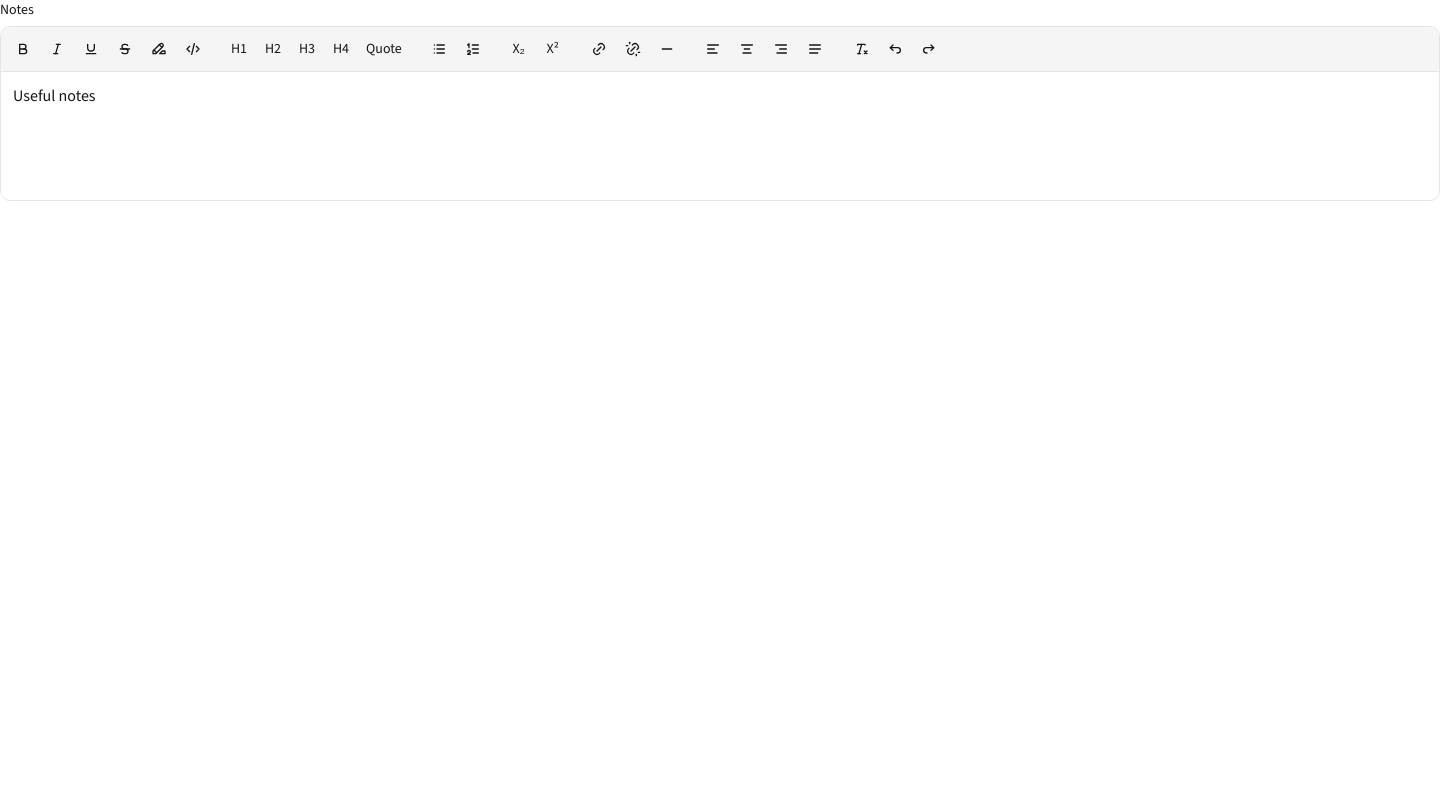
Test: RichTextEditor link dialog › validates safe schemes and returns focus to the toolbar control
Click the button named "Link": (599, 49) top-left (583, 33), bottom-right (615, 65)
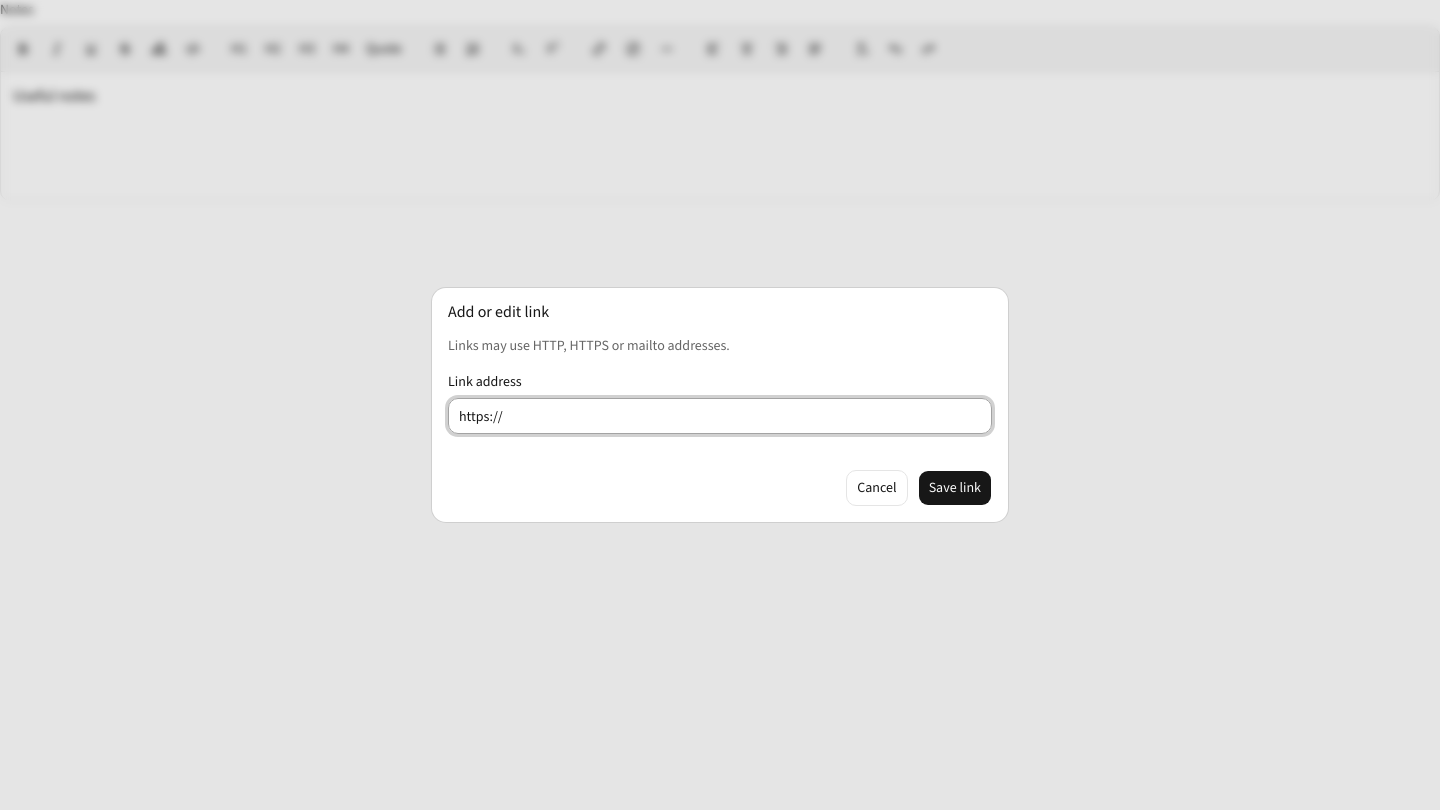
Result: the dialog "Add or edit link" is shown at top-left (432, 288), bottom-right (1008, 522)
Replace the text in the field labelled "Link address" with "javascript:alert(1)": (720, 416) top-left (448, 398), bottom-right (992, 434)
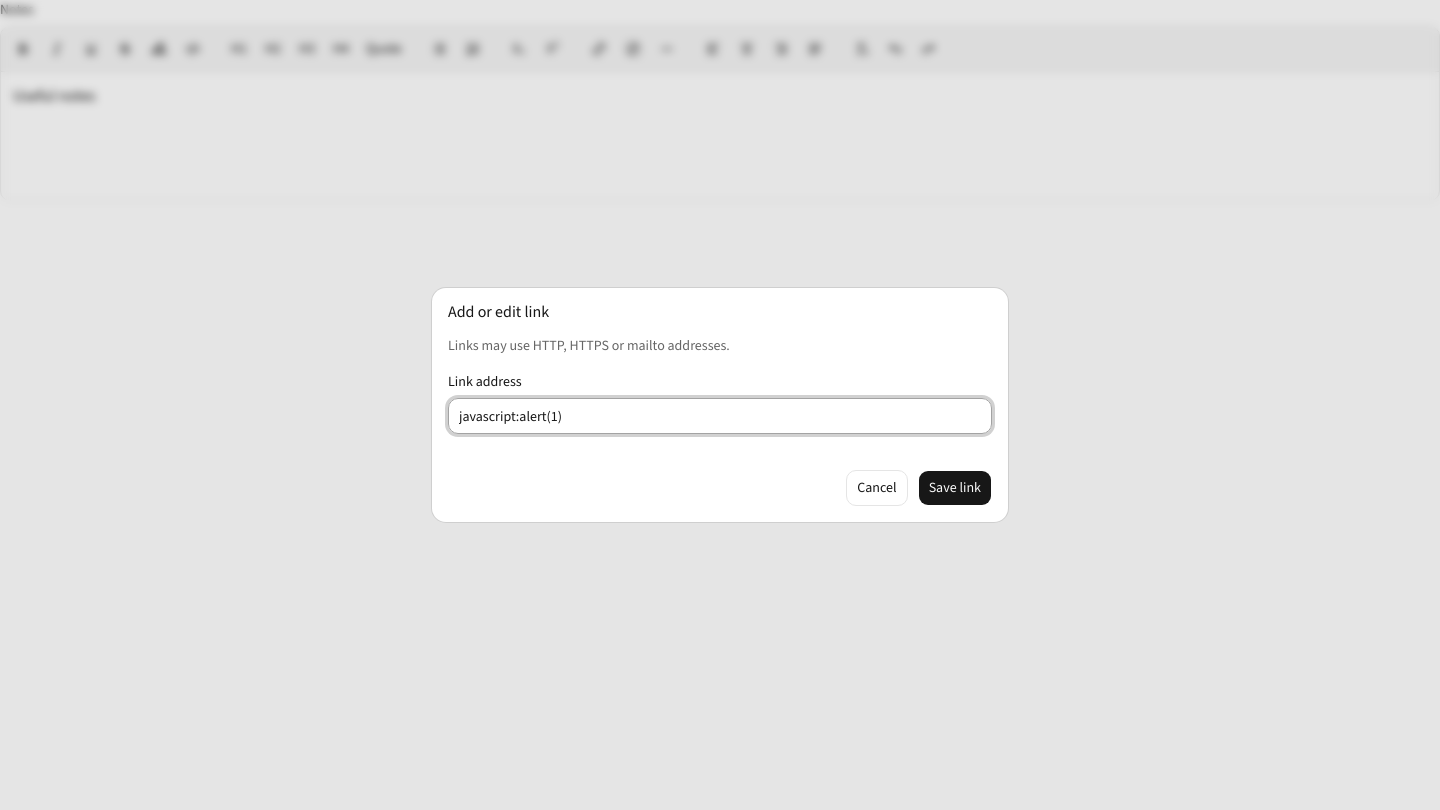
Click the button "Save link": (955, 488) top-left (918, 470), bottom-right (992, 506)
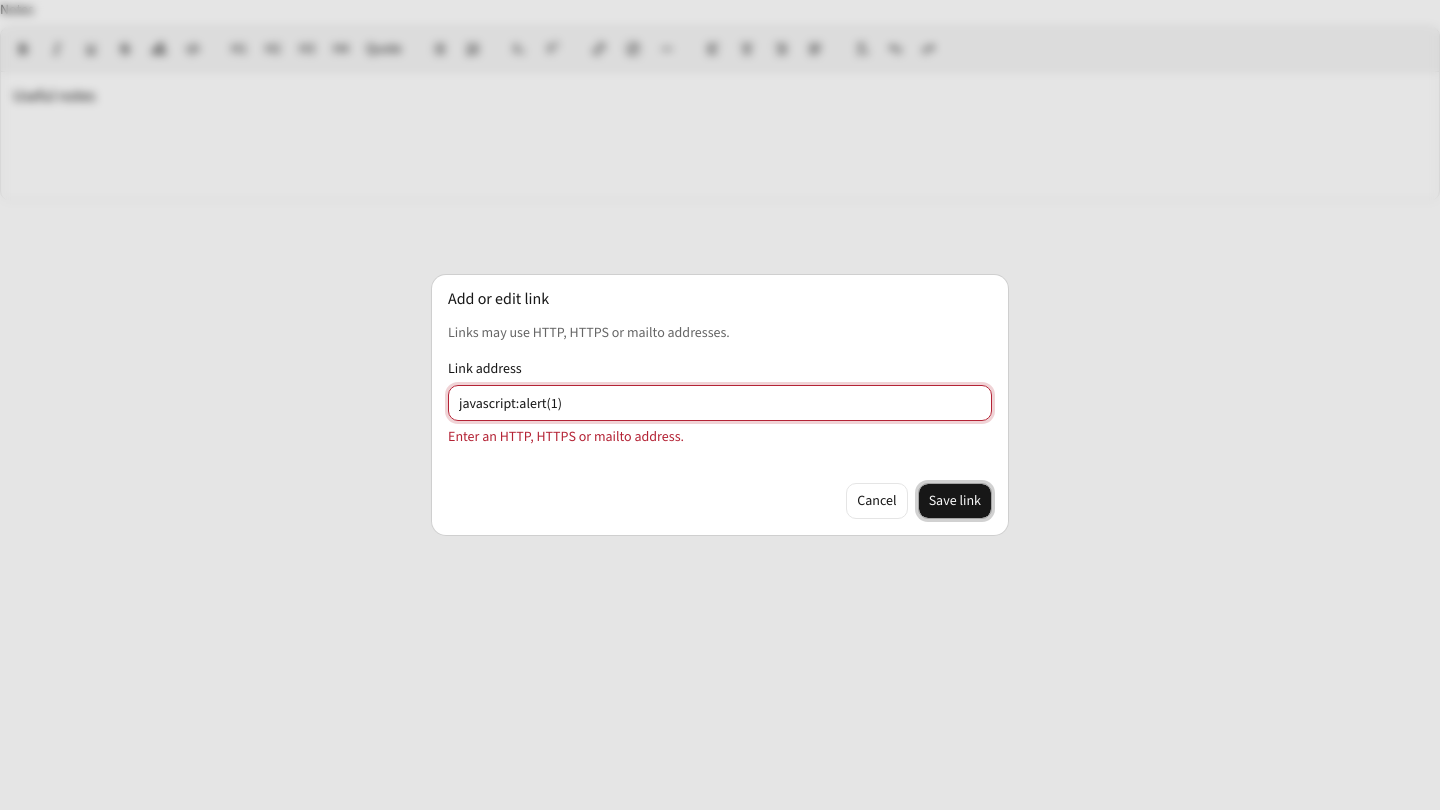
Result: the message shows "HTTP, HTTPS or mailto" at top-left (448, 427), bottom-right (684, 446)
Clear the field labelled "Link address": (720, 403) top-left (448, 385), bottom-right (992, 421)
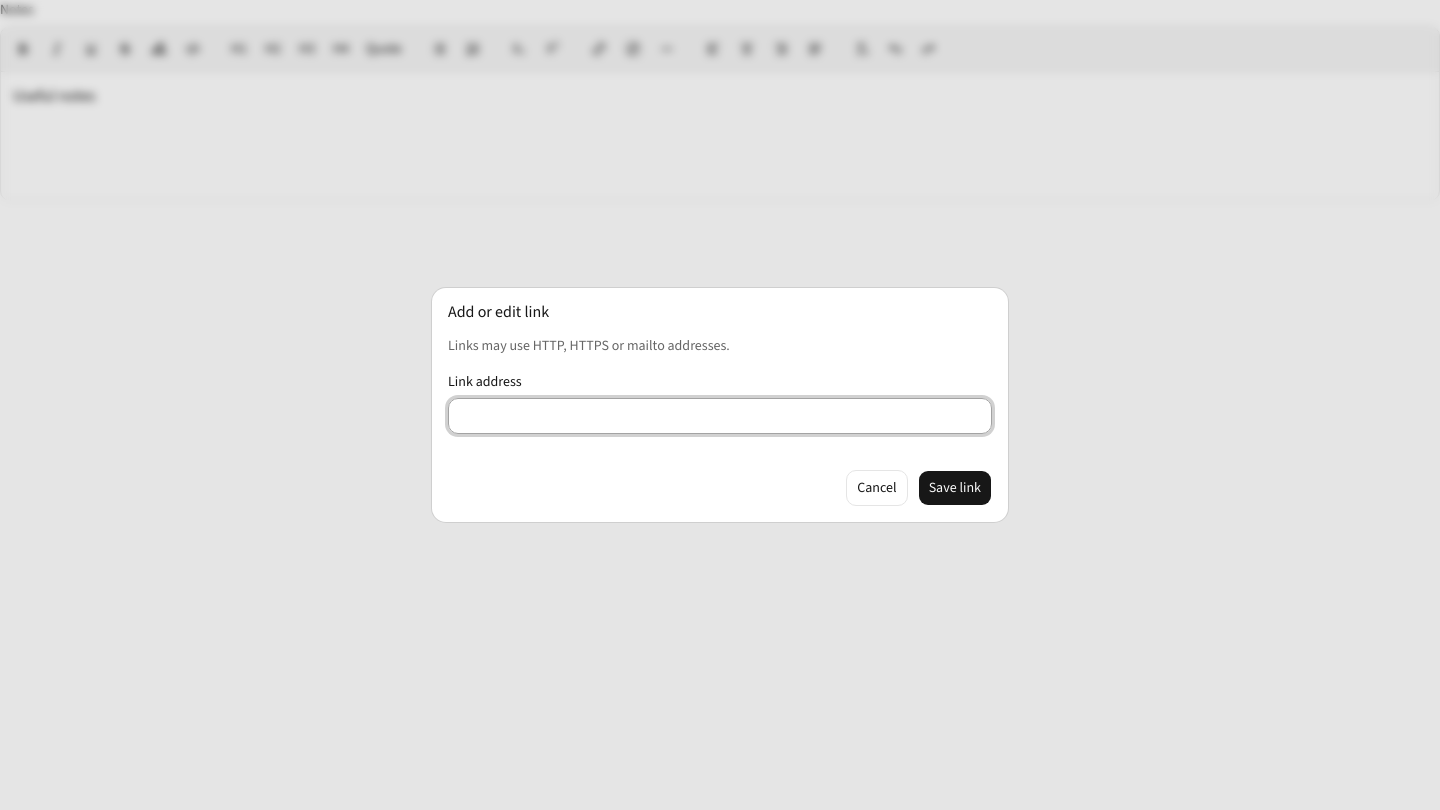
In the field labelled "Link address": (720, 416) top-left (448, 398), bottom-right (992, 434), type "example.com/guide"
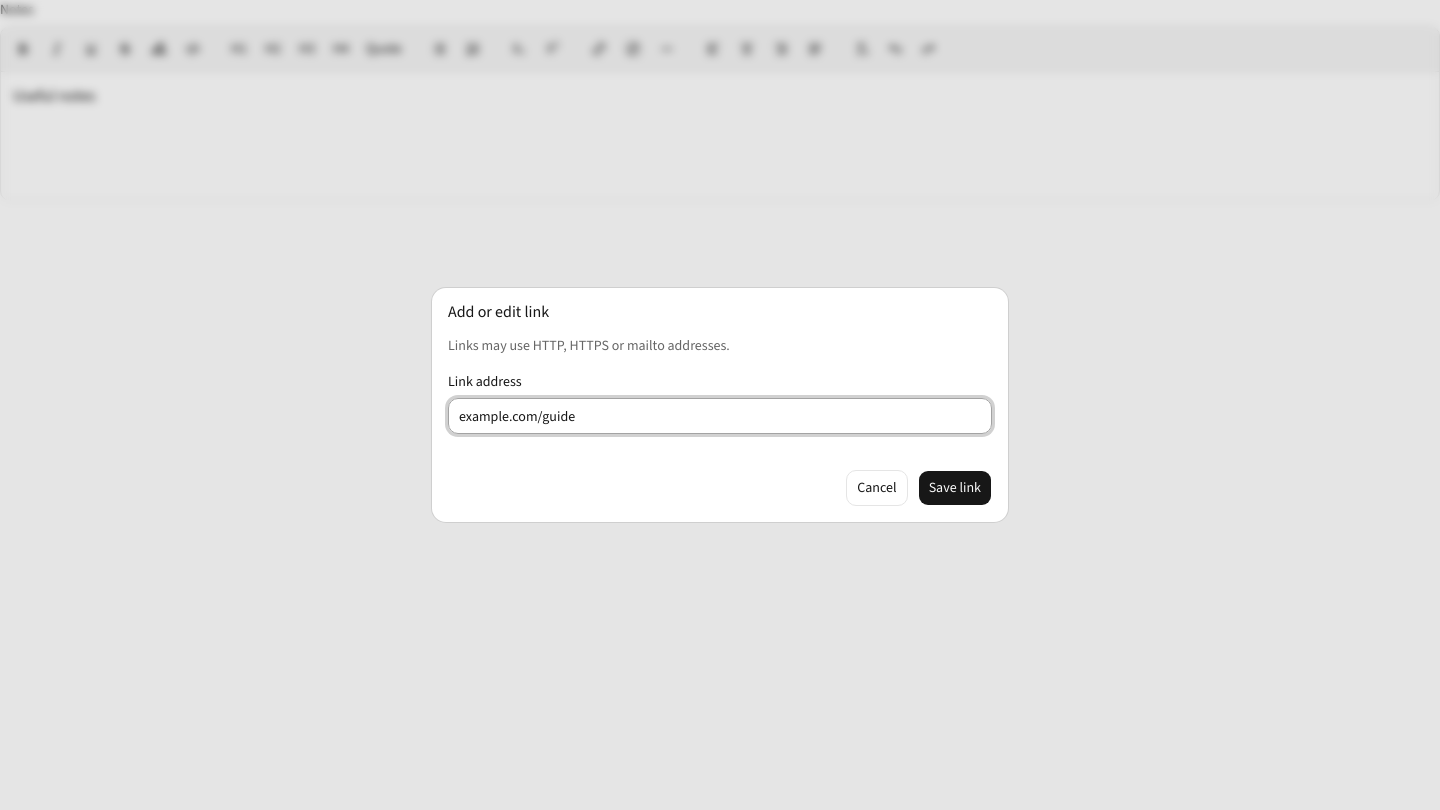
Click the button "Save link": (955, 488) top-left (918, 470), bottom-right (992, 506)
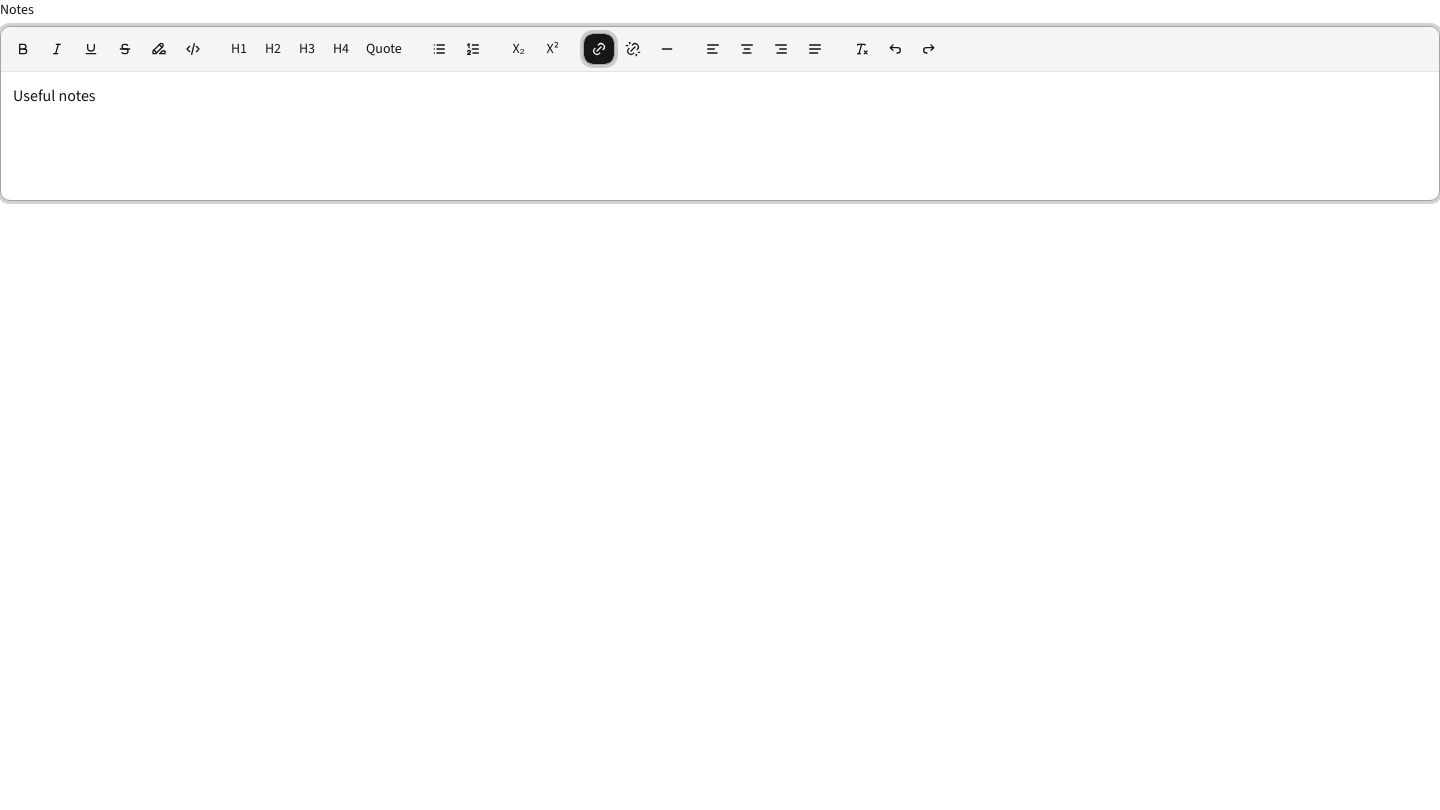
Result: the heading "Add or edit link" is gone
